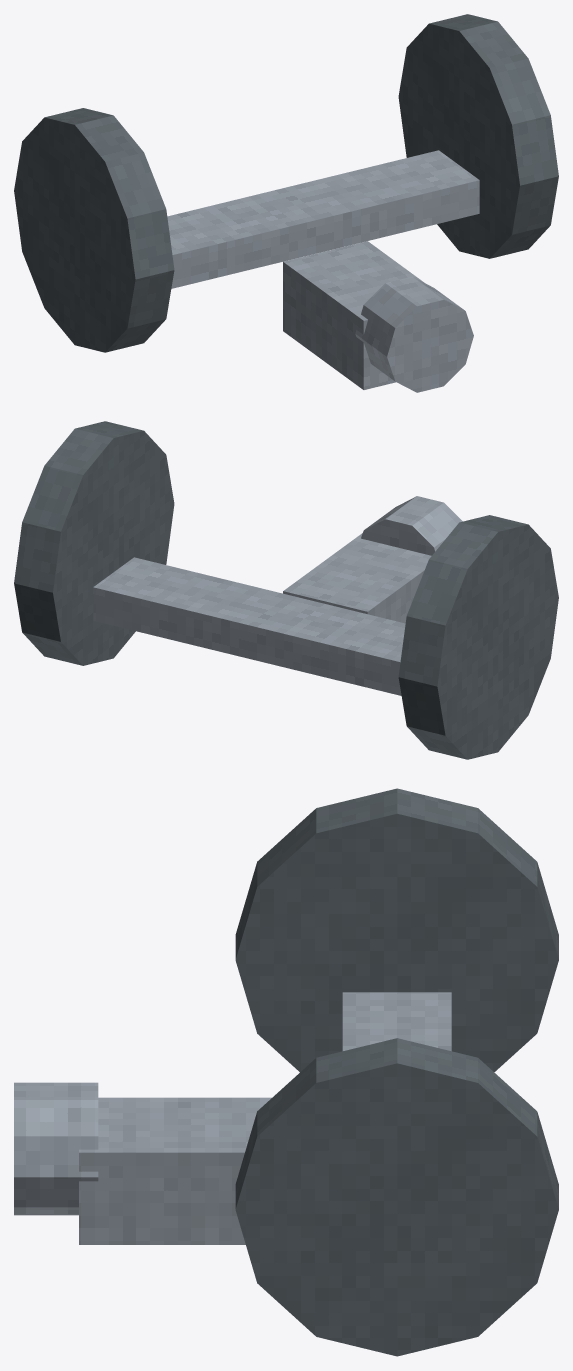
File: level_blockout_railway_coupler_wheelset.glb
3 renders of one model, top to bottom at view 1: azimuth 30°, elevation 25°; view 2: azimuth 150°, elevation 25°; view 3: azimuth 270°, elevation 25°, orthographic. The views are drawn at different scales.
Parts seen in each view (by area): view 1: level_blockout_railway_coupler_wheelset; view 2: level_blockout_railway_coupler_wheelset; view 3: level_blockout_railway_coupler_wheelset.
Boxes of the visible parts, <box> form: level_blockout_railway_coupler_wheelset: <box>14,14,558,392</box>; level_blockout_railway_coupler_wheelset: <box>14,421,558,759</box>; level_blockout_railway_coupler_wheelset: <box>14,788,558,1356</box>.
Bounding box in the file's own units: 1.85 × 0.92 × 1.55.
2 materials, 2 textured.
